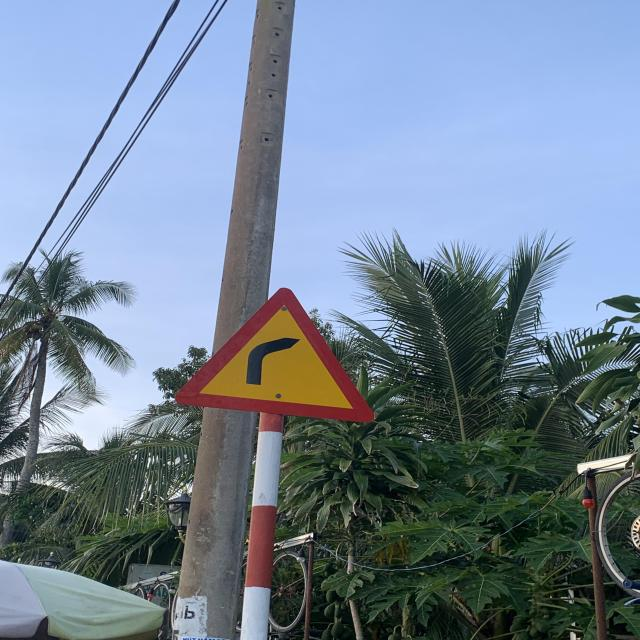Duong_Nguoi_Di_Bo_Cat_Ngang: (177, 285, 368, 422)
